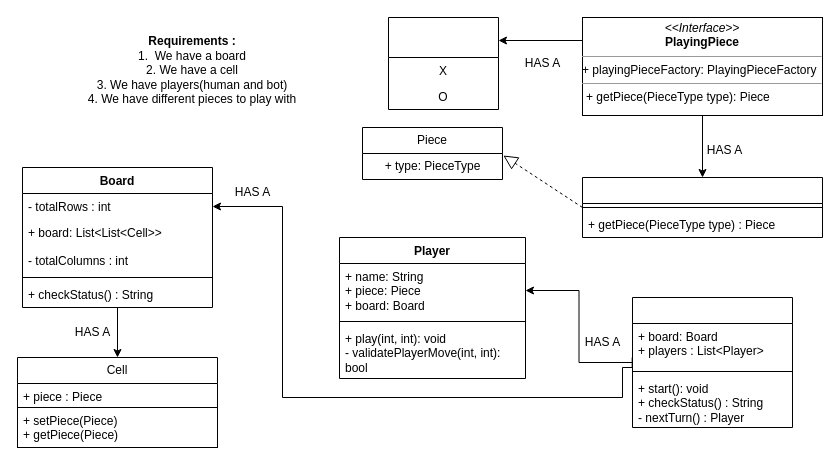
The diagram is 840 pixels wide and 468 high, and some of its shapes have lost their labels. Here are the shapes that lost their labels. From the top down, the box of each, then its label:
(388, 16, 498, 110): <ENUM> PieceType
(582, 176, 822, 238): PlayingPieceFactory
(632, 296, 792, 428): Game
